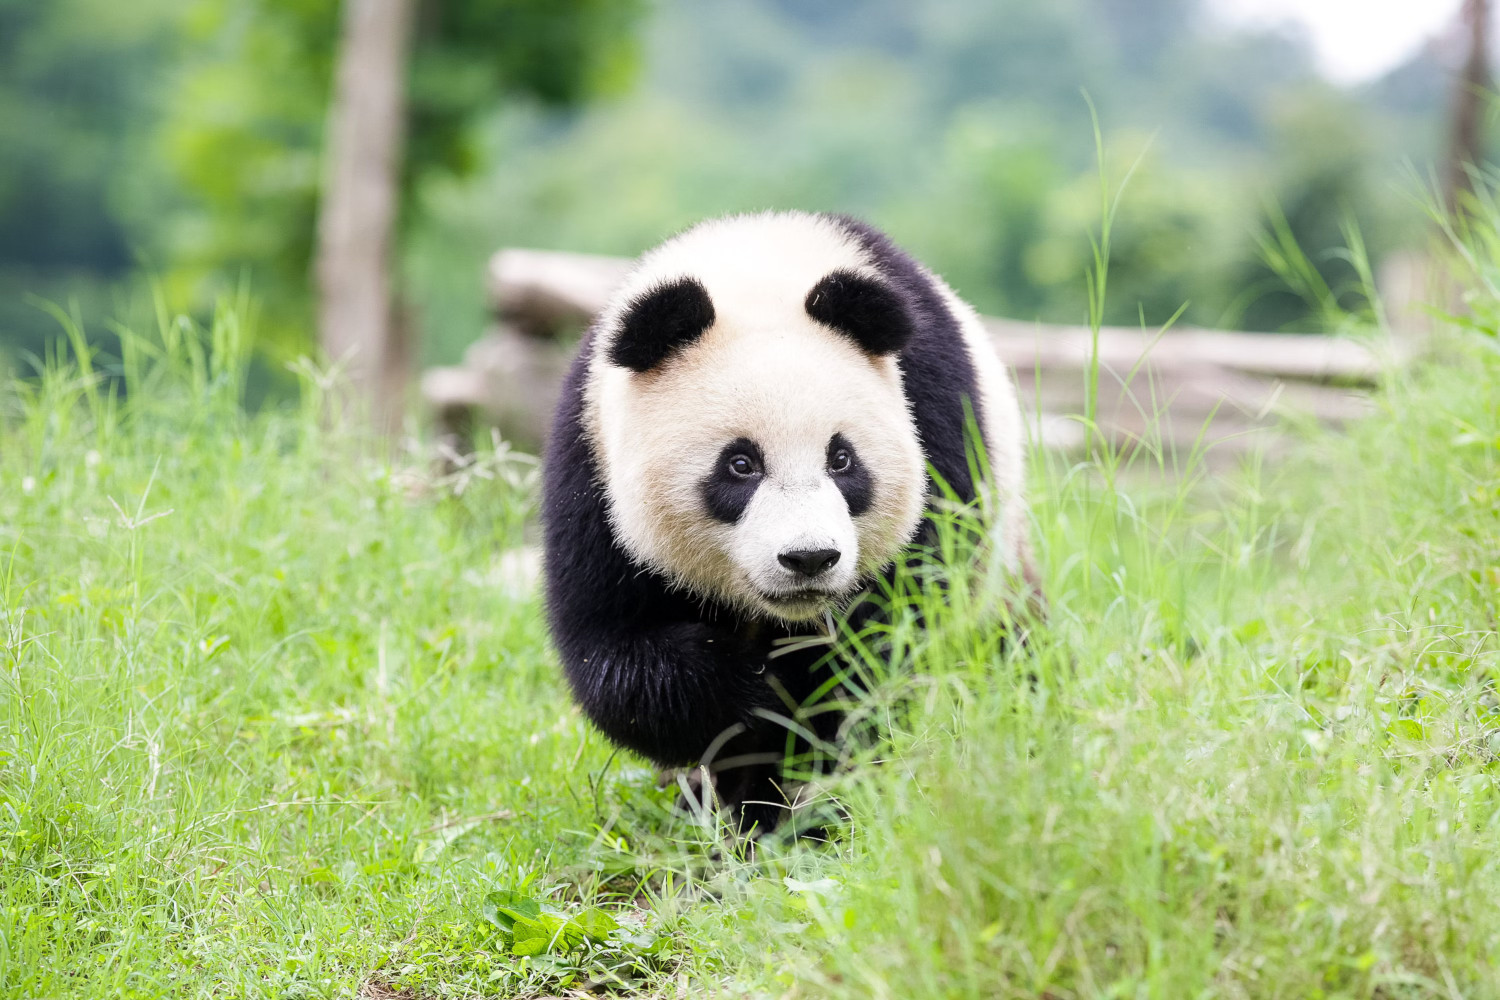Giant panda: (598, 273, 936, 629)
